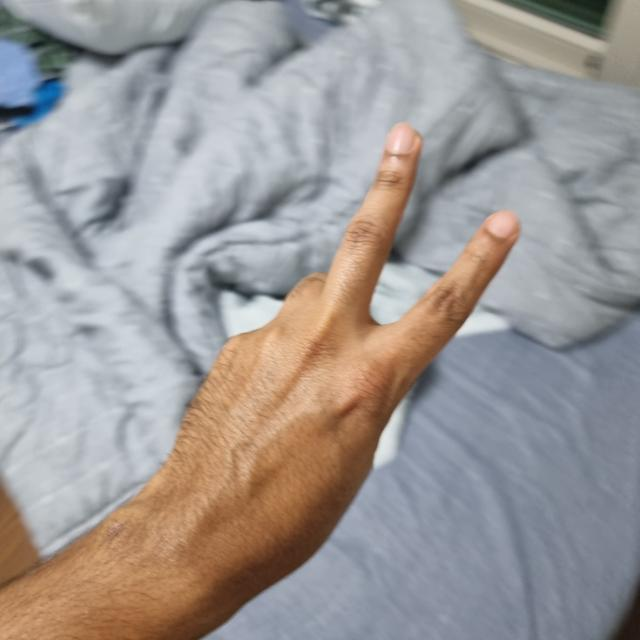Scissors: (160, 124, 519, 596)
